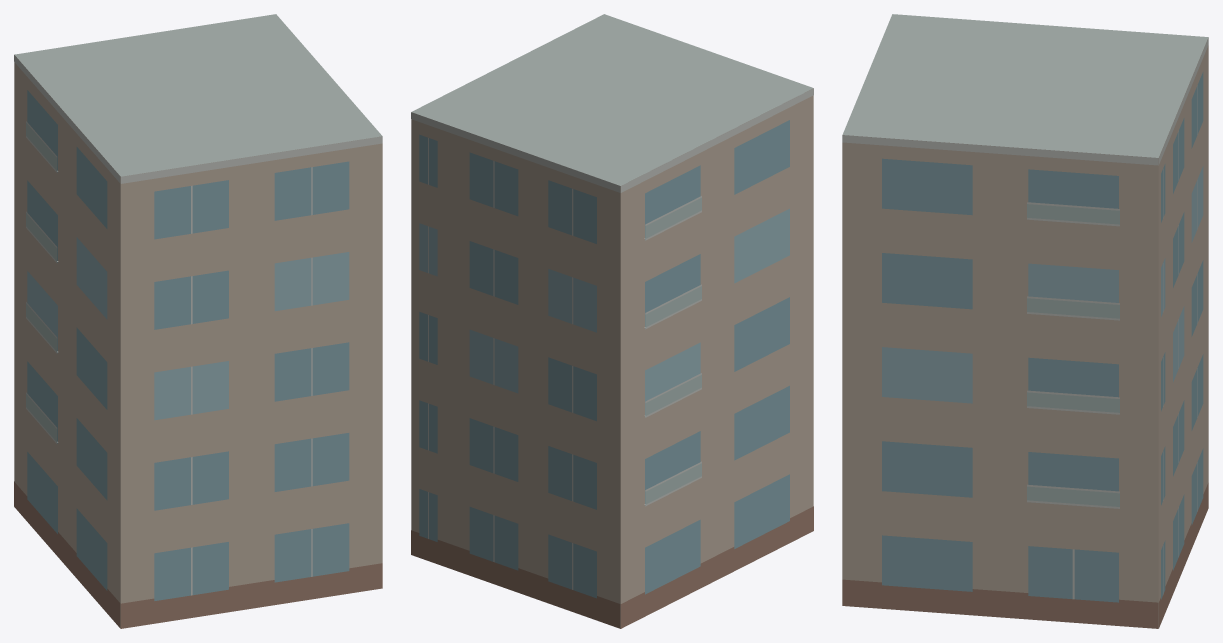
The model's file is survey-upis-33011884.glb.
3 views of the same model, side by side, from view 1: azimuth 30°, elevation 25°; view 2: azimuth 150°, elevation 25°; view 3: azimuth 270°, elevation 25° (orthographic). The views are drawn at different scales.
Parts seen in each view (by area): view 1: survey-upis-33011884.tmp; view 2: survey-upis-33011884.tmp; view 3: survey-upis-33011884.tmp.
Boxes of the visible parts, x1=… form: survey-upis-33011884.tmp: x1=14, y1=14, x2=382, y2=628; survey-upis-33011884.tmp: x1=411, y1=14, x2=813, y2=628; survey-upis-33011884.tmp: x1=842, y1=14, x2=1208, y2=628.
Bounding box in the file's own units: 10.01 × 15.25 × 10.76.
